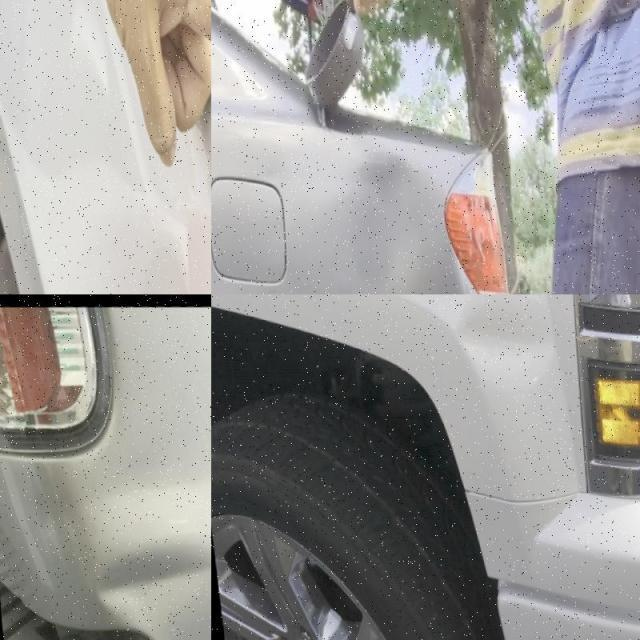car damage: (331, 155, 437, 291), (444, 295, 569, 384), (88, 538, 215, 613)
